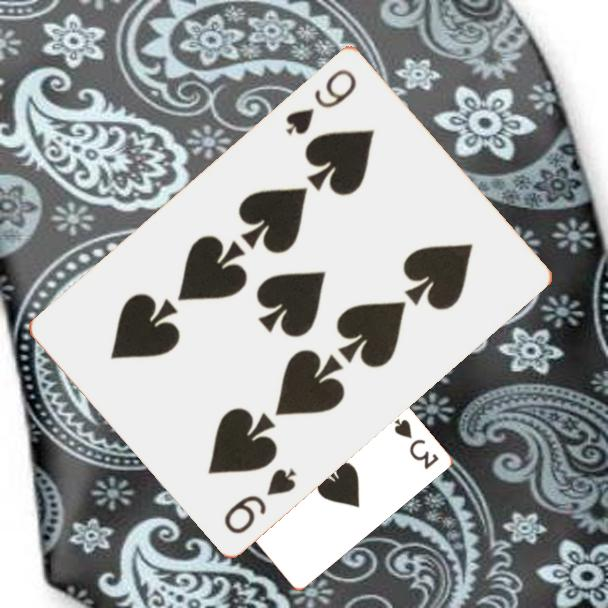s03: (390, 415, 441, 473)
s09: (220, 464, 300, 536), (282, 65, 360, 137)
